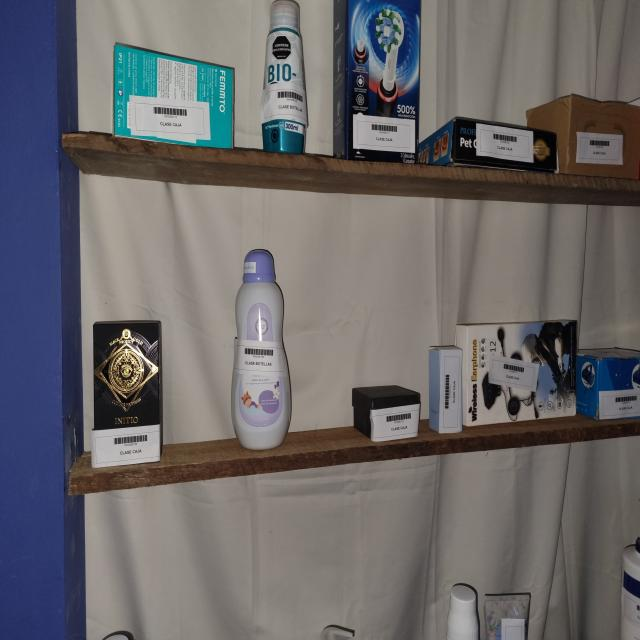botella: (231, 249, 291, 449), (261, 0, 308, 154), (484, 593, 530, 640), (620, 537, 640, 640), (447, 583, 480, 640)
caja: (333, 0, 420, 163), (114, 43, 235, 149), (456, 320, 577, 425), (526, 94, 640, 193), (91, 321, 163, 467), (418, 117, 558, 175), (577, 348, 640, 419), (352, 385, 420, 441), (429, 346, 462, 433)
